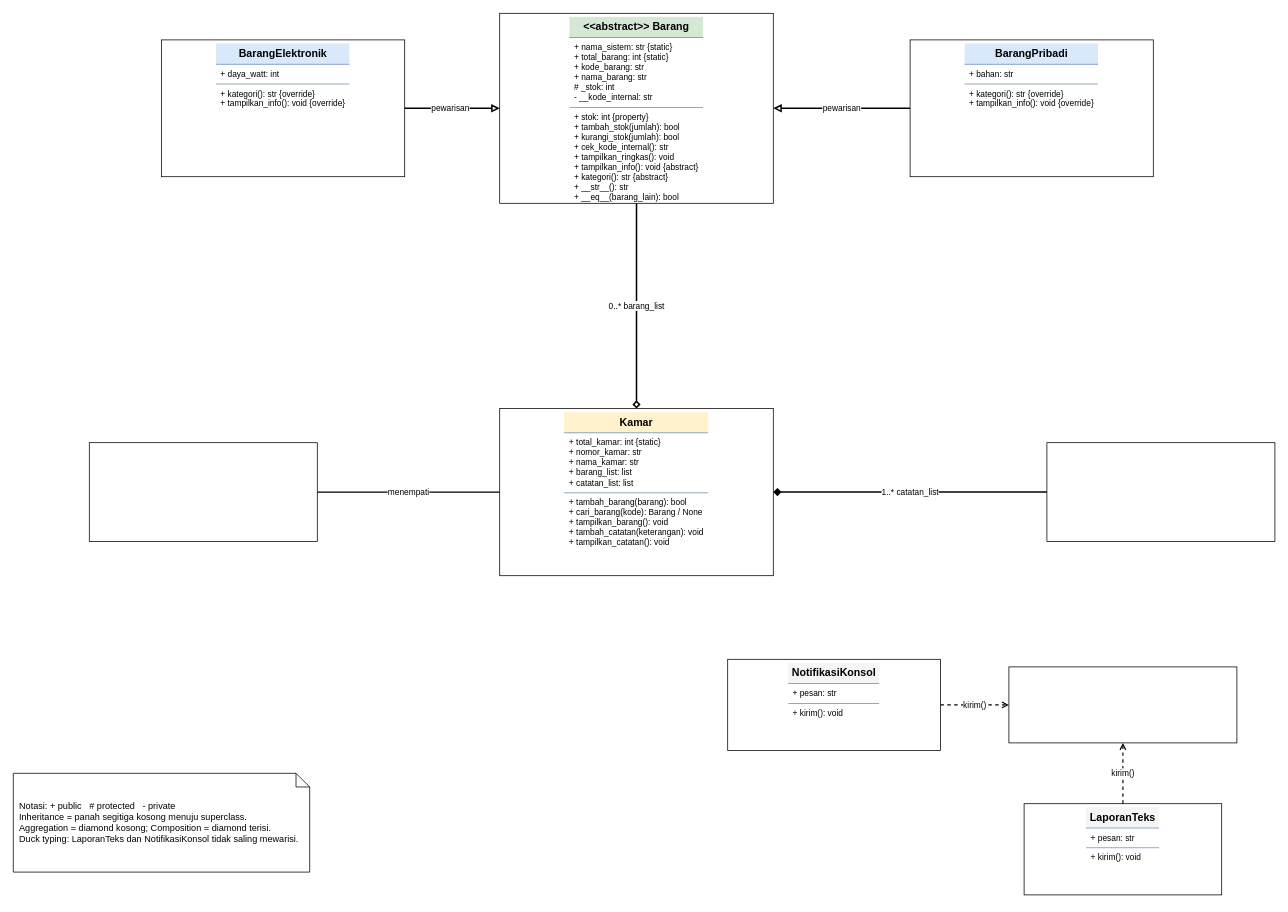
Image size: 1288x912. Some labels were removed from this diagram. The box of each missing label's shape, as (x1, y1, x2, y2) in pixels:
CatatanBarang + id_catatan: str + keterangan: str + __str__(): str: (1046, 442, 1275, 542)
Penghuni + nama: str + nim: str + tempati_kamar(kamar): void: (89, 442, 317, 542)
proses_pesan(objek) objek harus memiliki method kirim() memanggil objek.kirim(): (1008, 666, 1237, 743)
